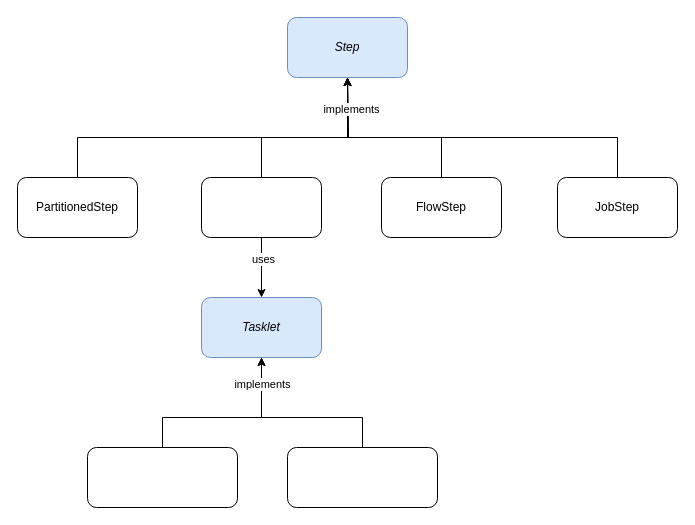
The diagram is 695 pixels wide and 525 high, and some of its shapes have lost their labels. Here are the shapes that lost their labels. From the top down, the centre of each, then its label:
[261,207]: TaskletStep
[162,477]: ChunkOrientedTasklet
[362,477]: SystemCommandTasklet
